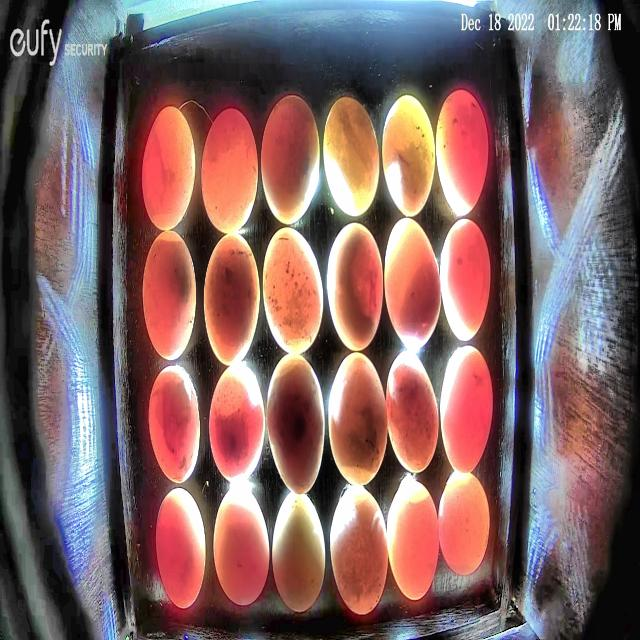DE: (327, 352, 389, 485), (266, 355, 324, 496), (262, 227, 324, 353), (326, 220, 384, 354), (261, 95, 320, 225), (203, 232, 260, 366), (329, 486, 388, 615), (200, 109, 259, 235), (384, 218, 441, 348), (140, 104, 197, 231), (439, 344, 494, 474), (142, 229, 195, 361), (435, 88, 489, 217), (324, 95, 381, 217), (209, 362, 266, 484), (271, 491, 326, 613), (386, 348, 439, 473), (213, 489, 270, 605), (383, 94, 436, 215), (387, 478, 439, 600), (440, 218, 491, 341), (155, 488, 206, 609), (148, 366, 200, 483), (439, 470, 490, 576)
